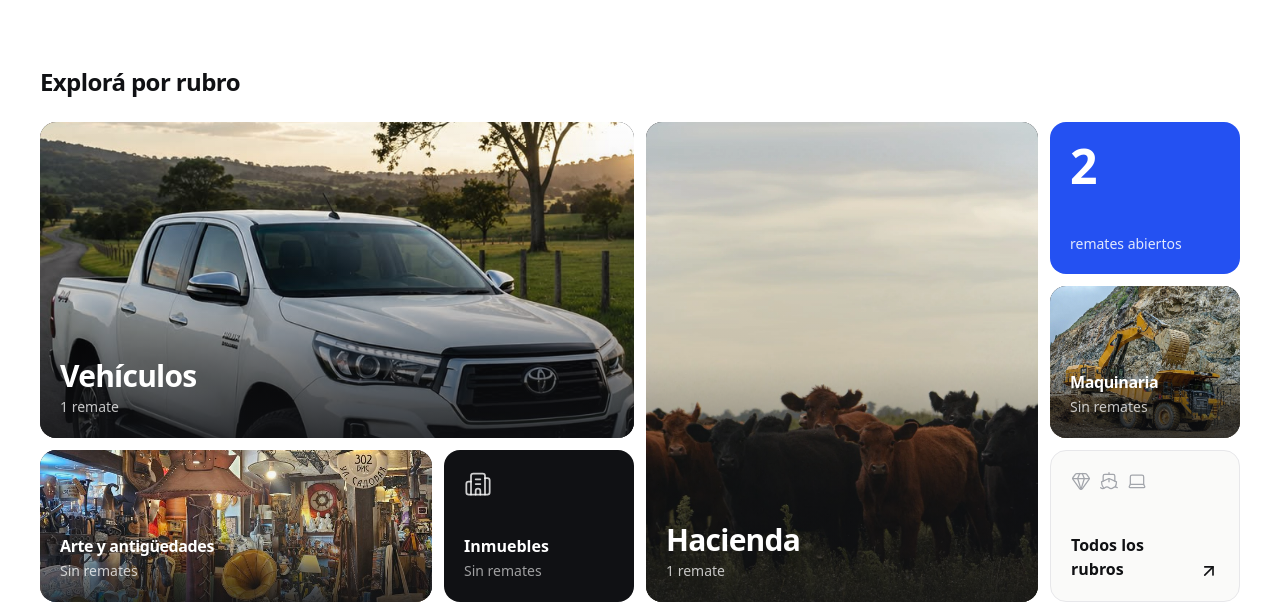
CompradorDashboardPage › una ficha del mosaico filtra el índice por ese rubro, y "Todos los rubros" lo quita
The width and height of the screenshot is (1280, 613).
Click the button with aria-label "Ver remates de Vehículos" at (337, 280), box [40,122,634,438]
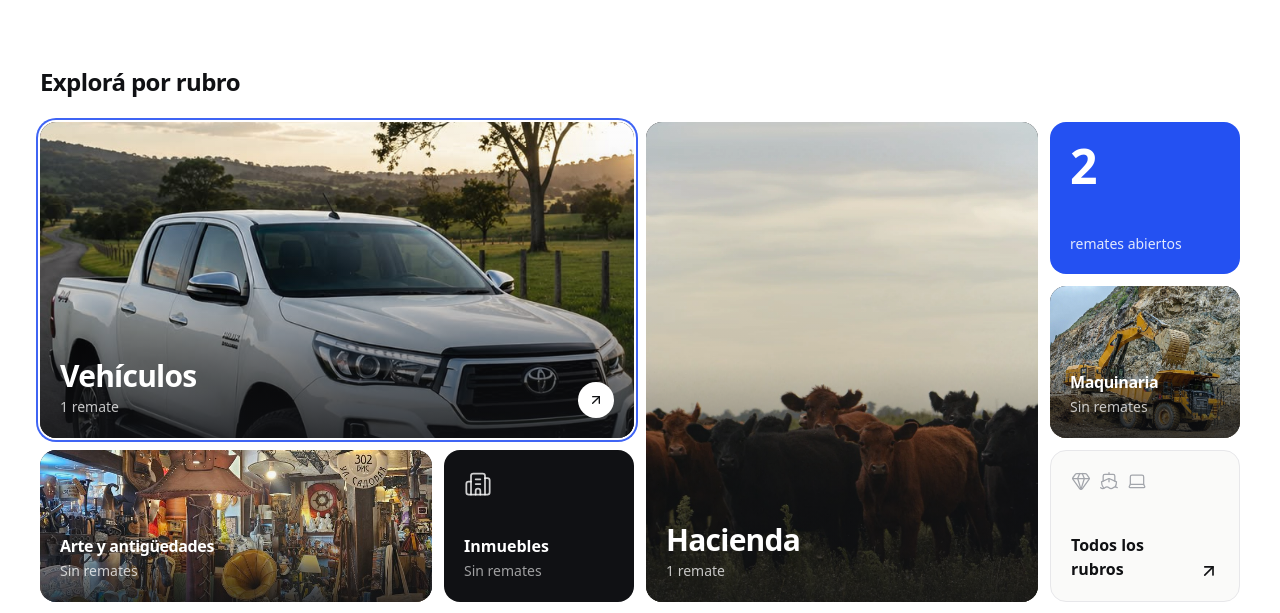
Click the button "Todos los rubros" at (1145, 526), box [1050,450,1240,602]
(page scrolled)
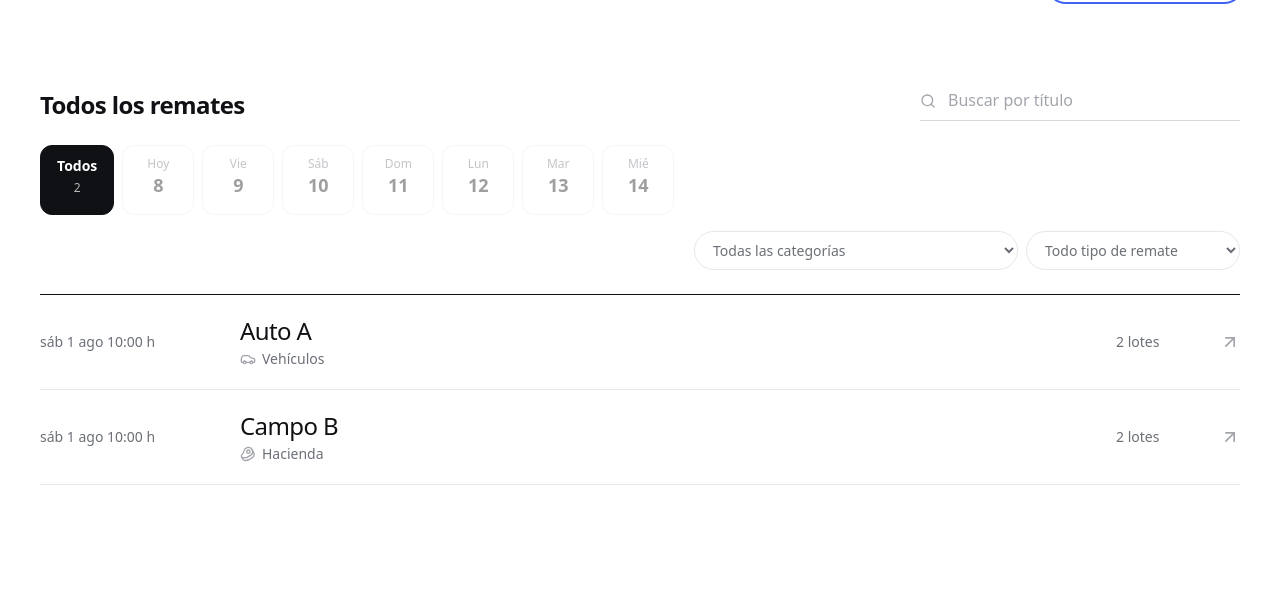
Expected: the text "Campo B" is shown, [240,409,338,442]
